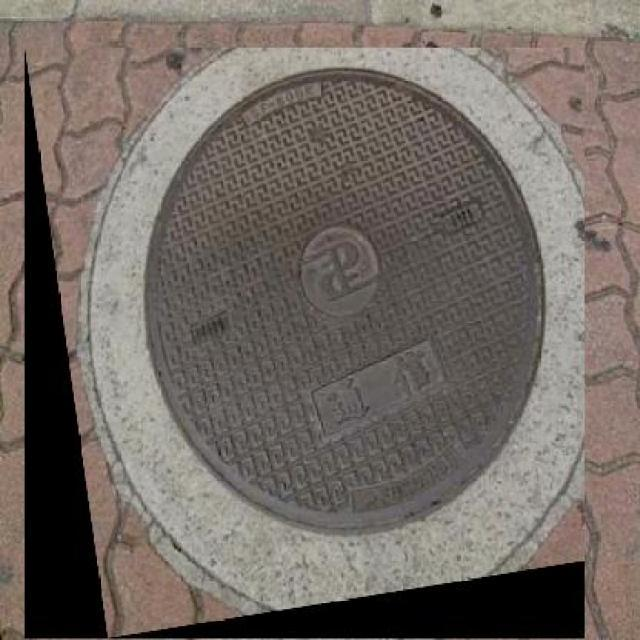Manhole: (23, 47, 586, 638)
